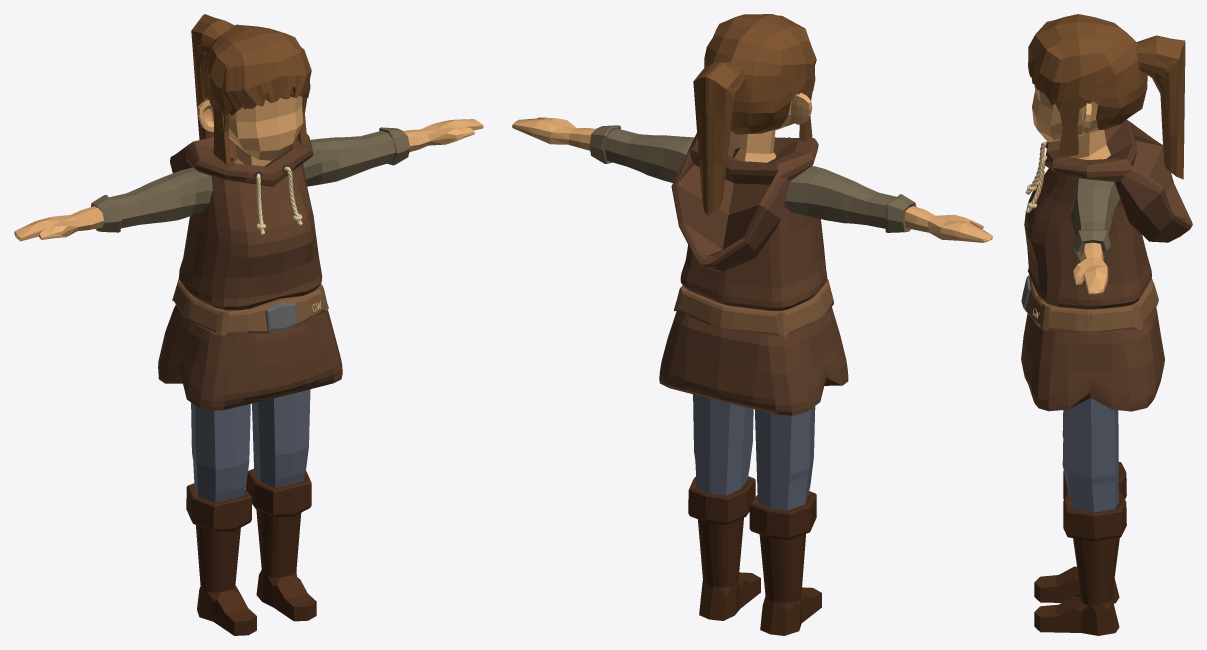
The model's file is villager.glb.
3 views of the same model, side by side, from view 1: azimuth 30°, elevation 25°; view 2: azimuth 150°, elevation 25°; view 3: azimuth 270°, elevation 25° (orthographic). The views are drawn at different scales.
Visible parts, largest first — view 1: Body,Legs and Arms; view 2: Body,Legs and Arms; view 3: Body,Legs and Arms.
Part boxes in pixels (x1,y1,x2,y2): Body,Legs and Arms: (14, 14, 483, 635); Body,Legs and Arms: (512, 14, 992, 635); Body,Legs and Arms: (1021, 14, 1192, 635).
Bounding box in the file's own units: 6.75 × 8.02 × 2.12.
